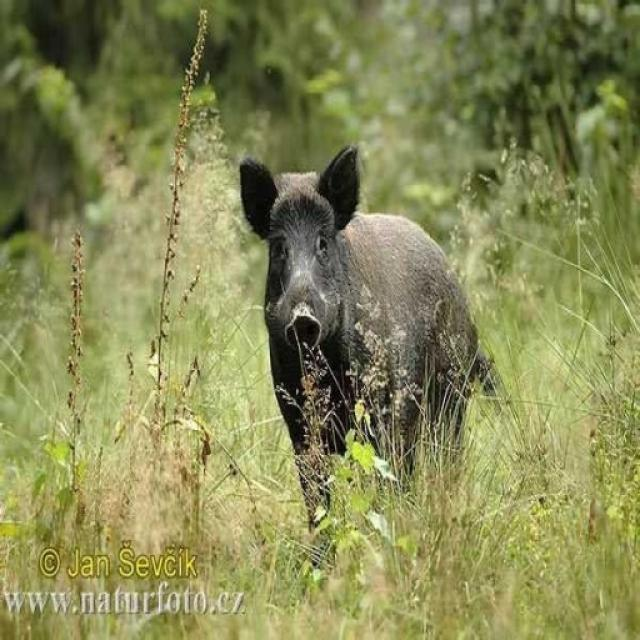pig: (225, 109, 512, 545)
